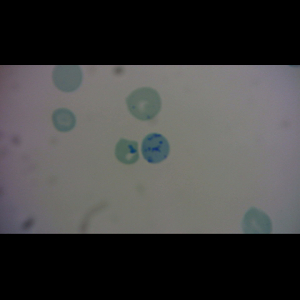aggregate reticulocyte: (140, 132, 171, 165)
erythrocyte: (52, 65, 84, 94), (114, 137, 141, 166), (51, 107, 78, 133)
punctate reticulocyte: (125, 86, 163, 122)
